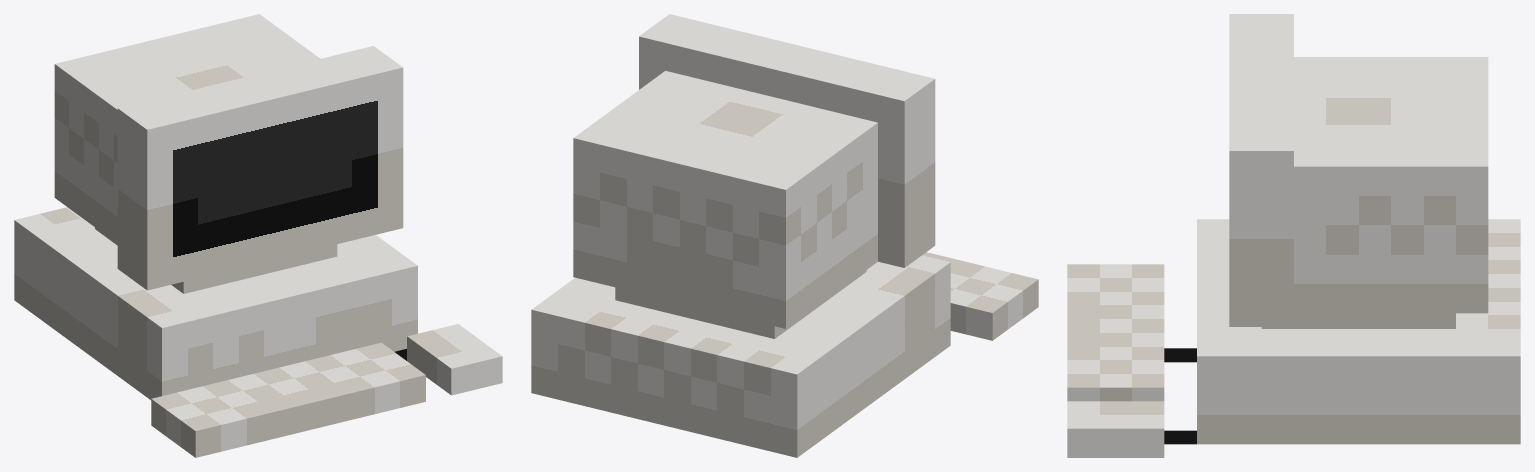
The model's file is retropc.glb.
3 renders of one model, left to right at view 1: azimuth 30°, elevation 25°; view 2: azimuth 150°, elevation 25°; view 3: azimuth 270°, elevation 25°, orthographic. The views are drawn at different scales.
Parts seen in each view (by area): view 1: screen_0, computer_3, moniter_1, keyboard_4, mouse_5, stand_2; view 2: moniter_1, computer_3, screen_0, keyboard_4, stand_2; view 3: moniter_1, computer_3, screen_0, keyboard_4, mouse_5, stand_2, wire_6, wire_7.
Boxes of the visible parts, bbox=[...] form: screen_0: bbox=[117, 46, 403, 290]; computer_3: bbox=[14, 207, 417, 400]; moniter_1: bbox=[54, 14, 320, 243]; keyboard_4: bbox=[151, 342, 425, 457]; mouse_5: bbox=[407, 324, 502, 395]; stand_2: bbox=[95, 227, 337, 293]; moniter_1: bbox=[573, 71, 877, 328]; computer_3: bbox=[531, 255, 950, 457]; screen_0: bbox=[639, 14, 935, 267]; keyboard_4: bbox=[922, 252, 1038, 340]; stand_2: bbox=[615, 270, 866, 338]; moniter_1: bbox=[1294, 57, 1488, 313]; computer_3: bbox=[1197, 219, 1520, 444]; screen_0: bbox=[1229, 14, 1293, 326]; keyboard_4: bbox=[1067, 264, 1164, 401]; mouse_5: bbox=[1067, 401, 1164, 457]; stand_2: bbox=[1261, 313, 1455, 328]; wire_6: bbox=[1164, 348, 1196, 362]; wire_7: bbox=[1164, 430, 1196, 444].
Bounding box in the file's own units: 0.75 × 0.625 × 0.875.
Materials: 1 (1 with a texture image).
